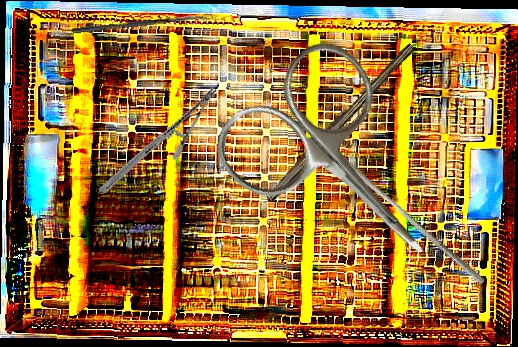Iris Scissors: (202, 28, 483, 312)
Needle Holder: (98, 64, 218, 217)
Pusher: (330, 151, 491, 286)
Scalpel Handle: (262, 38, 417, 206)
Surgical Spoon: (72, 13, 213, 35)
